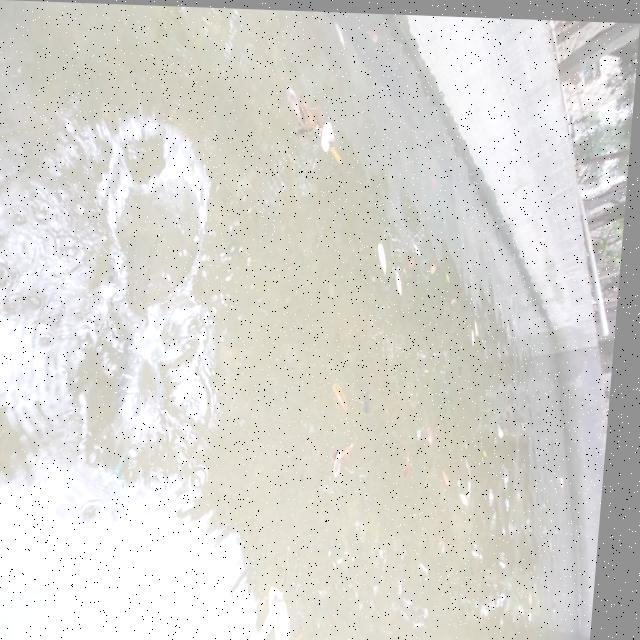leaf: (256, 87, 368, 169), (369, 218, 447, 287), (316, 434, 374, 485), (326, 368, 363, 412)
